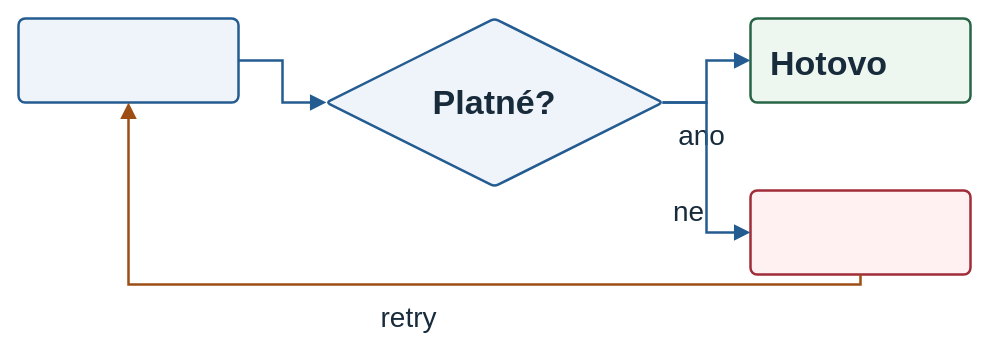
This 989x352 diagram has some shape labels left out. Each missing label, with the box of its shape:
Opakovat: (749, 189, 971, 275)
Požadavek: (17, 17, 239, 103)
